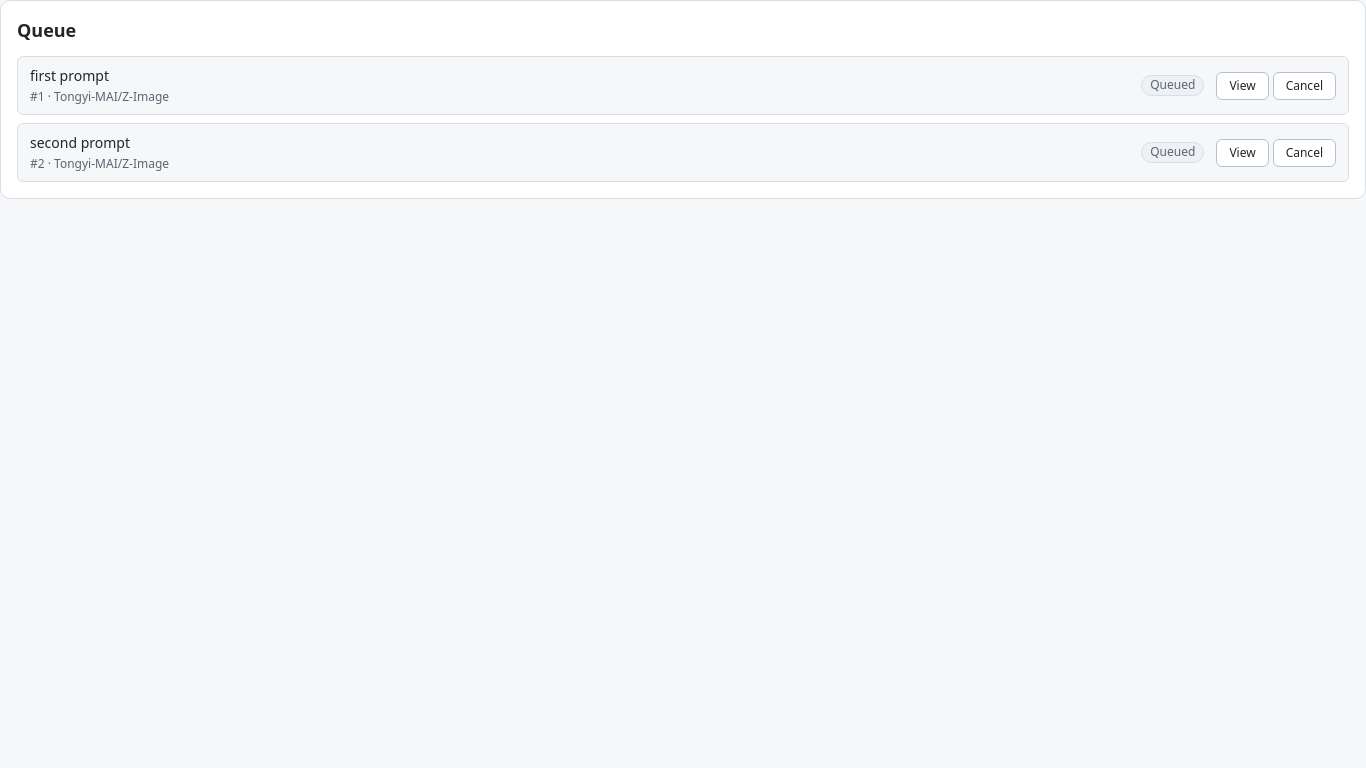
it: QueuePanel › removes a cancelled queued row from the response and filters stale queue reads
The image size is (1366, 768).
Check: the text "first prompt" is shown, box [30,66,109,85]
Click the 2nd button named "Cancel": (1304, 86) [1273,72,1336,100]
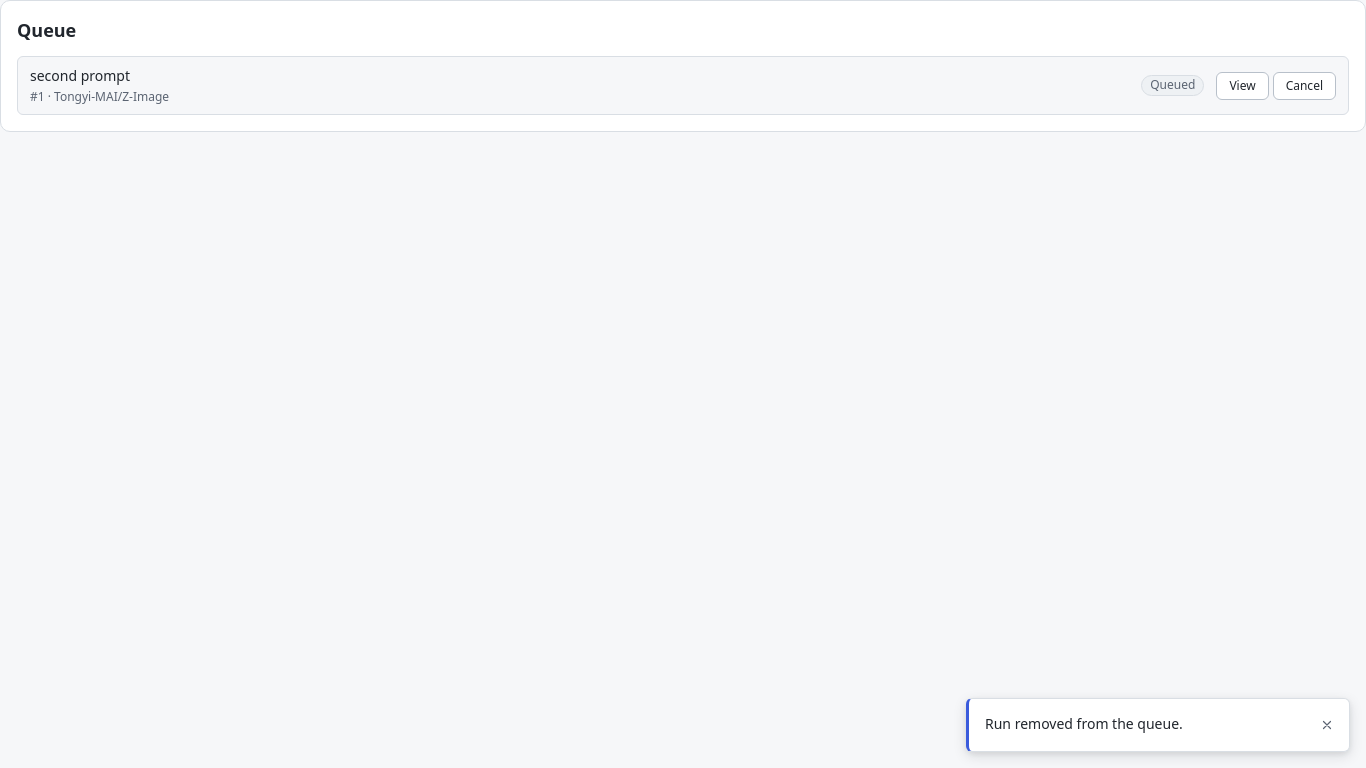
Check: the text "first prompt" is not shown
Check: the 3rd text "Run removed from the queue." is shown, box [985,714,1183,733]
